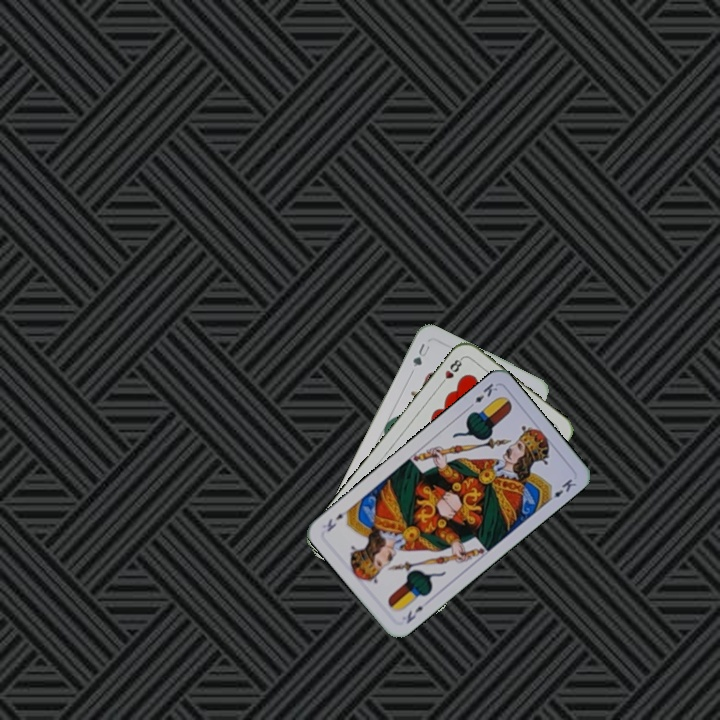EK: (464, 379, 500, 411), (402, 602, 426, 626)
GU: (409, 339, 433, 369)
H8: (436, 354, 465, 388)
